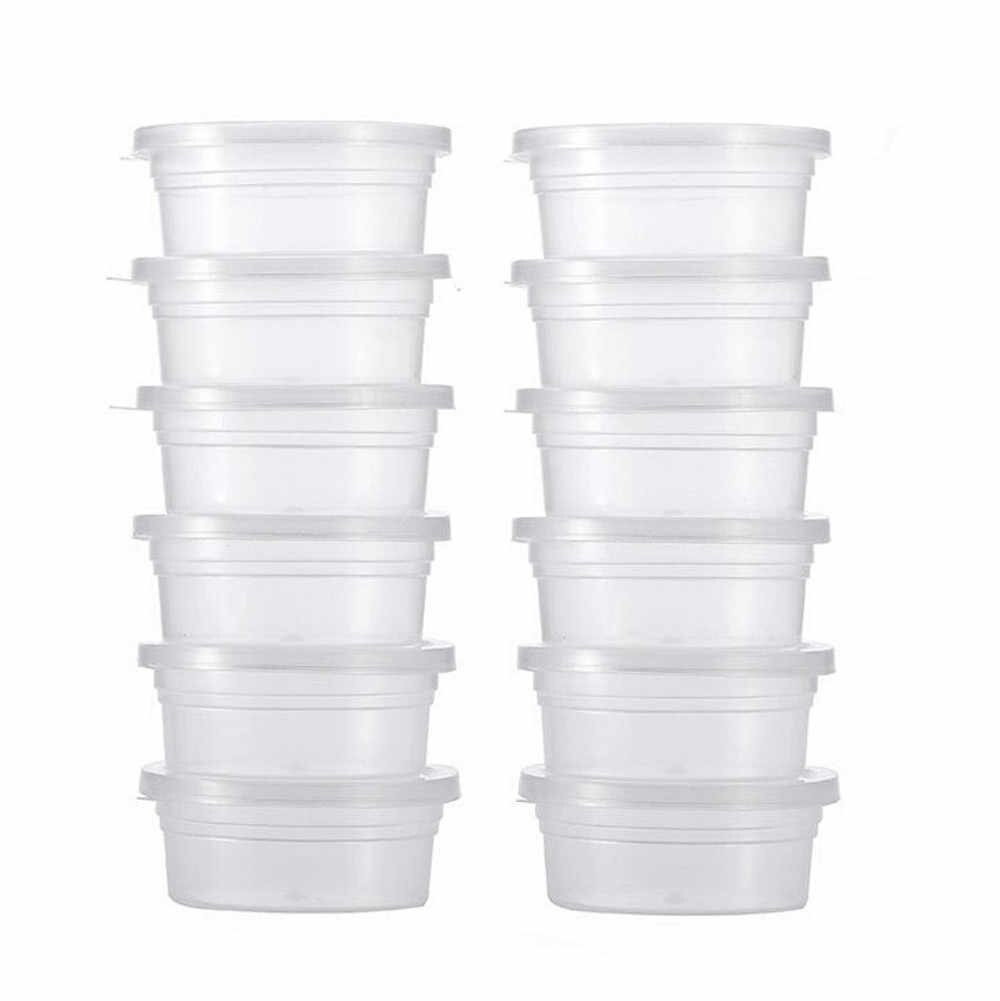Foam Box: (97, 104, 853, 921)
